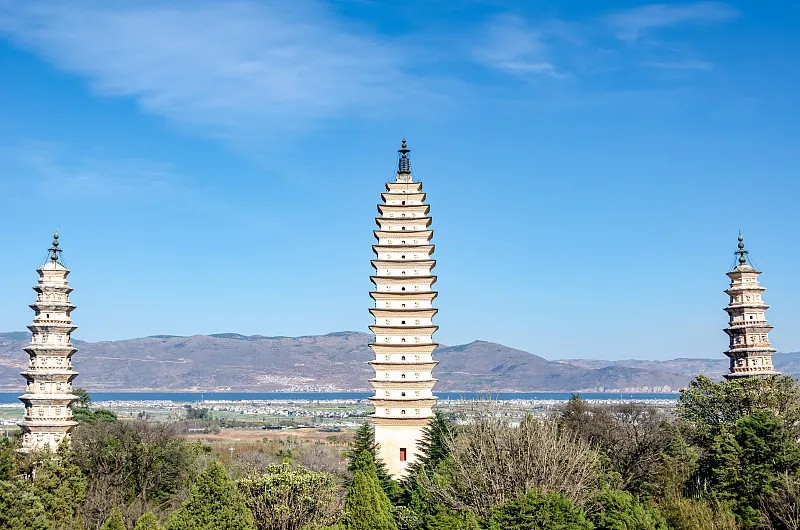ThreePagoda: (367, 138, 438, 481)
